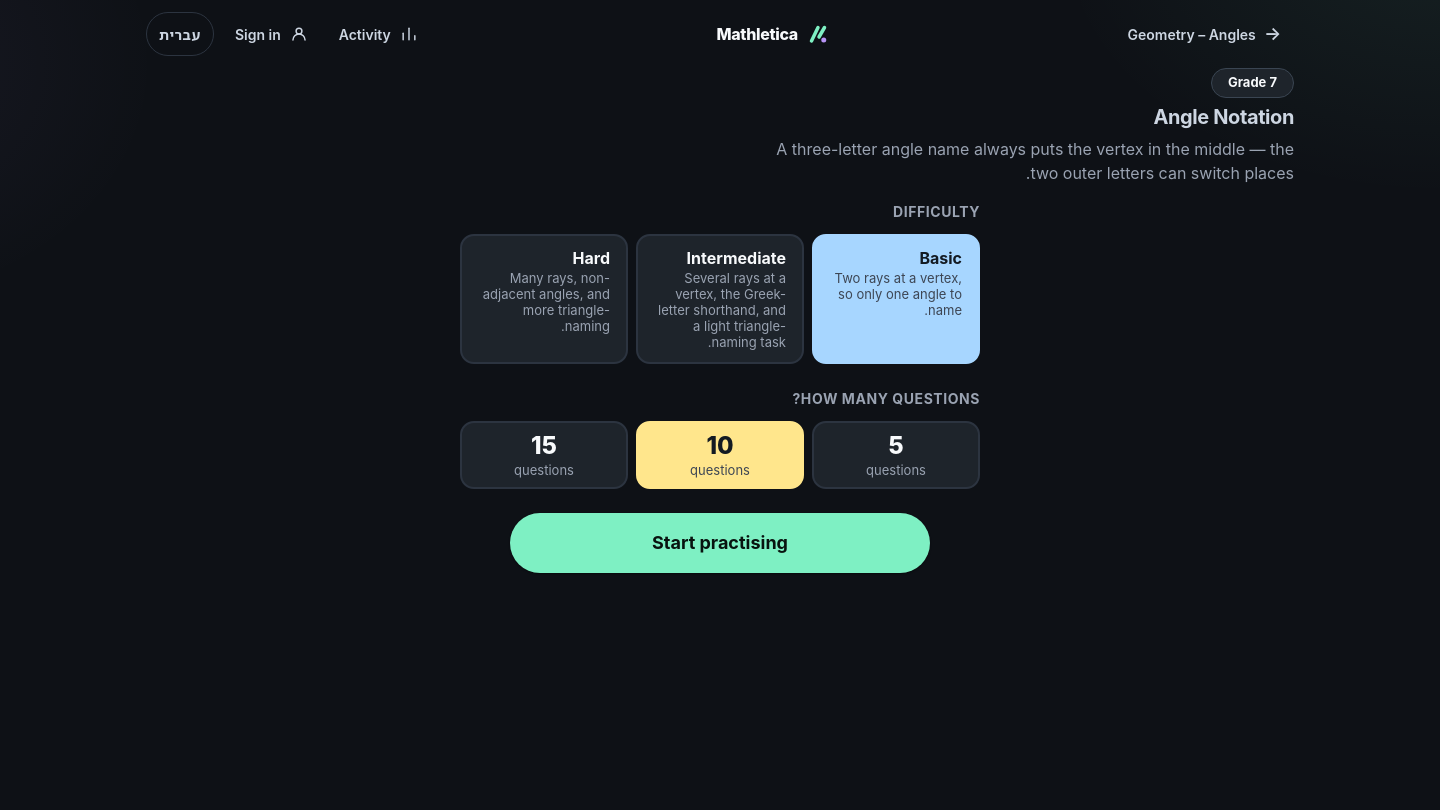
Angle Notation training activity › starts a session and renders a diagram plus angle-name options
Click the button with test id "tr-start" at (720, 542), box [510, 512, 930, 572]
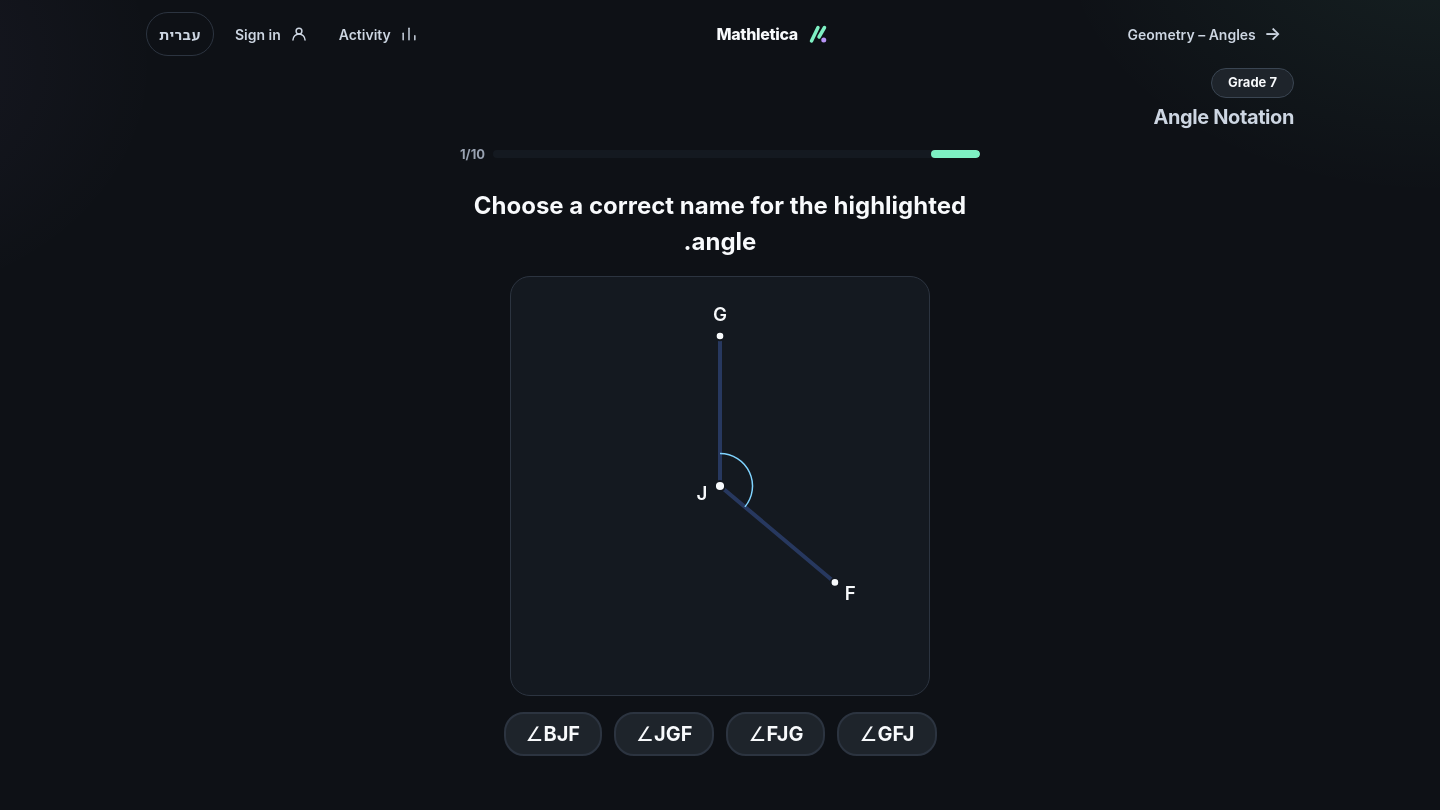
Expected: the picture with class "geo-stage" is shown, [510, 276, 930, 696]
